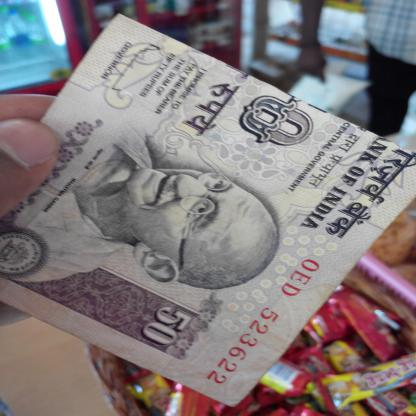Old50Front: (0, 13, 416, 406)
